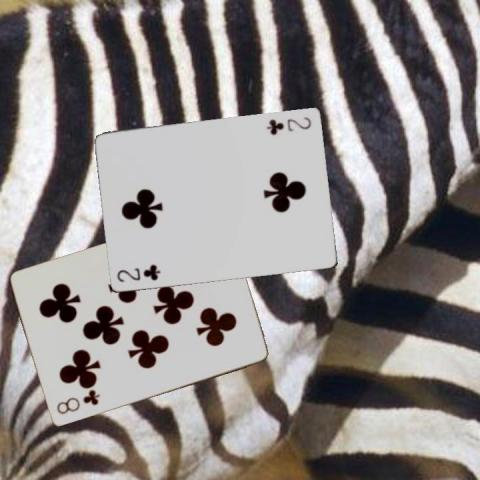2c: (264, 113, 313, 136), (114, 262, 163, 283)
8c: (54, 388, 102, 416)
